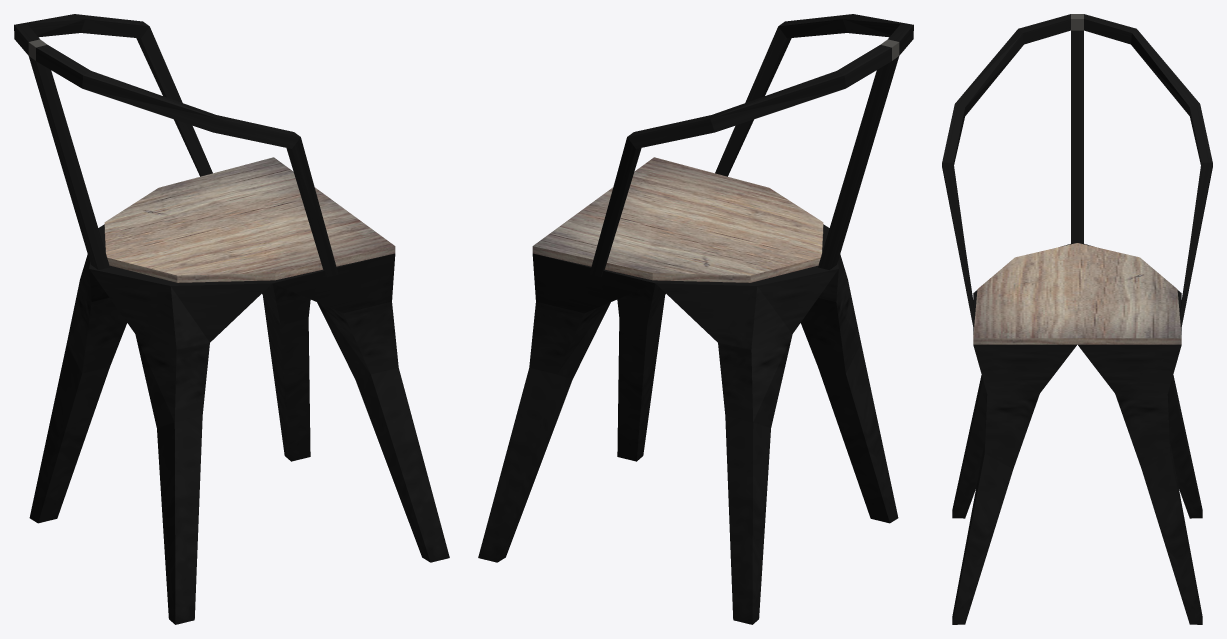
Rendered from Chair01.obj.
3 views of the same model, side by side, from view 1: azimuth 30°, elevation 25°; view 2: azimuth 150°, elevation 25°; view 3: azimuth 270°, elevation 25° (orthographic). The views are drawn at different scales.
Parts seen in each view (by area): view 1: Chair01; view 2: Chair01; view 3: Chair01.
Boxes of the visible parts, <box> form: Chair01: <box>14,14,449,624</box>; Chair01: <box>478,14,913,624</box>; Chair01: <box>942,14,1212,624</box>.
Size of the model in its own units: 0.8044 by 1.21 by 0.6377.
